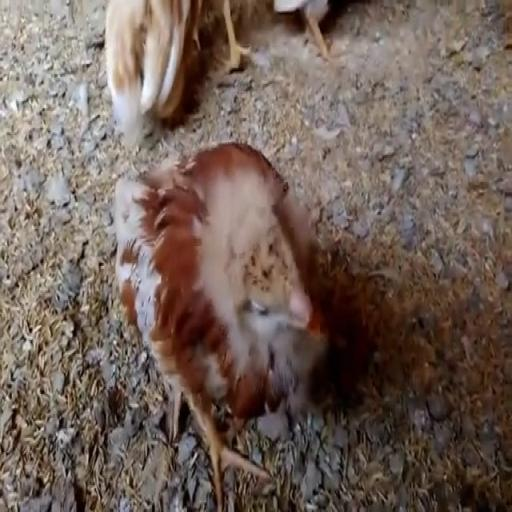disease: (240, 232, 318, 341)
